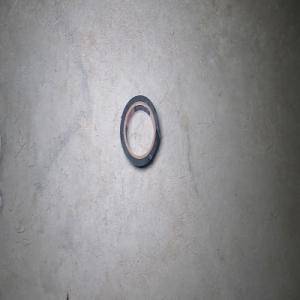Tape: (119, 94, 160, 167)
